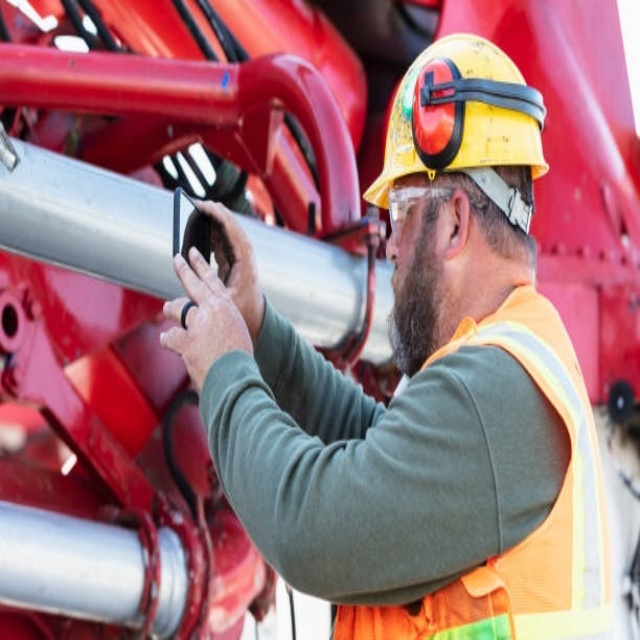Gafas: (386, 177, 452, 235)
Sin_guantes: (163, 233, 261, 383), (195, 186, 270, 339)
Sin_mascara: (385, 237, 422, 323)
